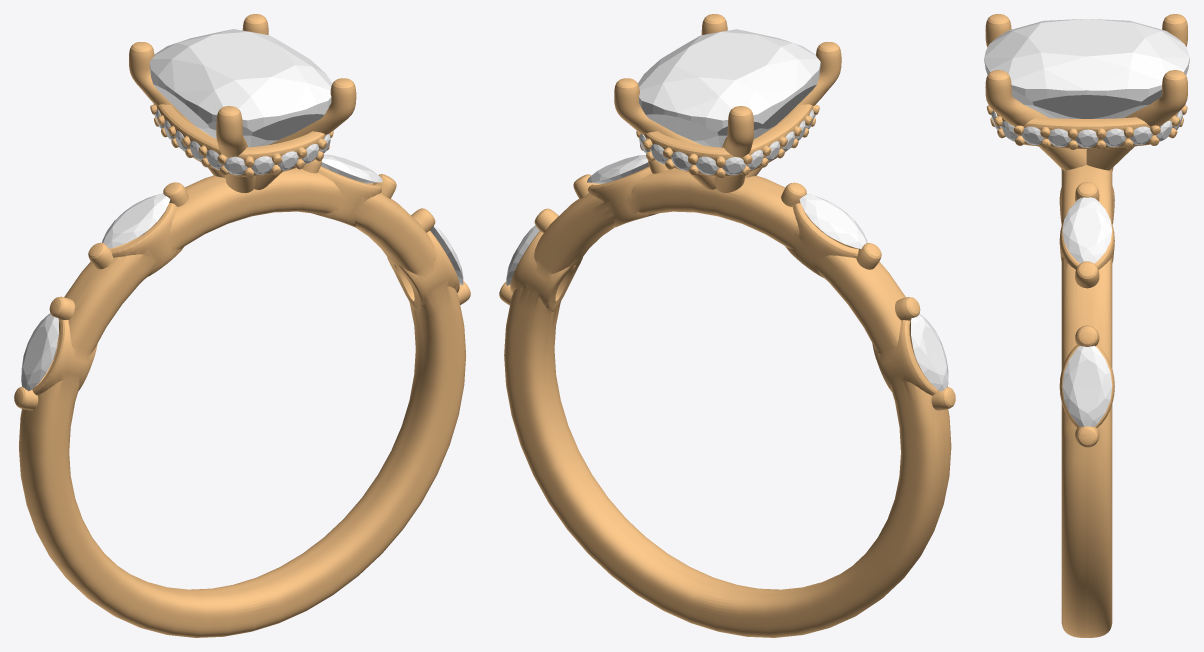
The picture shows the model from 3 angles, left to right: view 1: azimuth 30°, elevation 25°; view 2: azimuth 150°, elevation 25°; view 3: azimuth 270°, elevation 25°; orthographic projection.
Parts seen in each view (by area): view 1: object 26, PART0001 (×4); view 2: object 26, PART0001 (×4); view 3: object 26, PART0001 (×8).
Boxes of the visible parts, x1,y1,x2,y2 form: object 26: [14, 14, 470, 637]; PART0001 (×4): [21, 29, 382, 391]; object 26: [499, 14, 955, 637]; PART0001 (×4): [587, 29, 948, 391]; object 26: [985, 14, 1187, 637]; PART0001 (×8): [984, 19, 1189, 426].
Size of the model in its own units: 2.47 by 2.99 by 0.9644.
